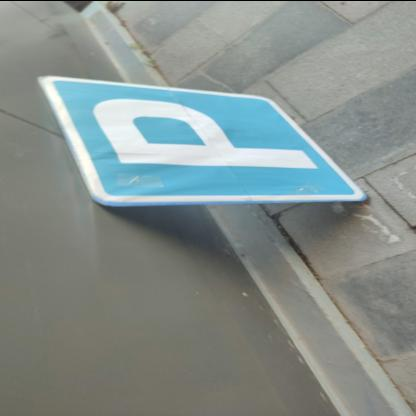Parking-Sign: (39, 74, 369, 206)
